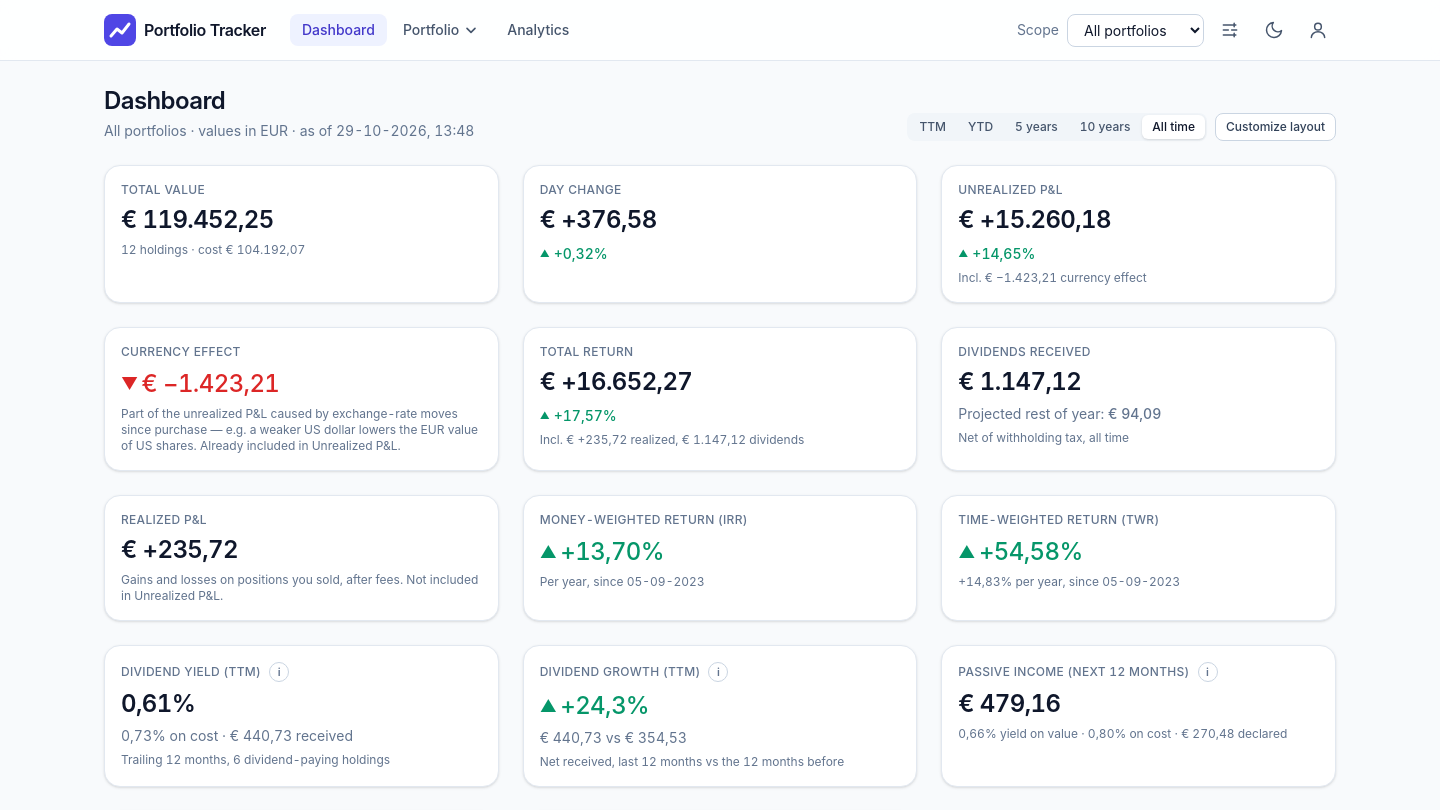
GitHub mode: Notifications entry of the account menu › offers Notifications when the server can send them and opens the page
This screenshot has width=1440, height=810.
Click the button named "Account" at coordinates (1318, 30), box left=1300, top=12, right=1336, bottom=48
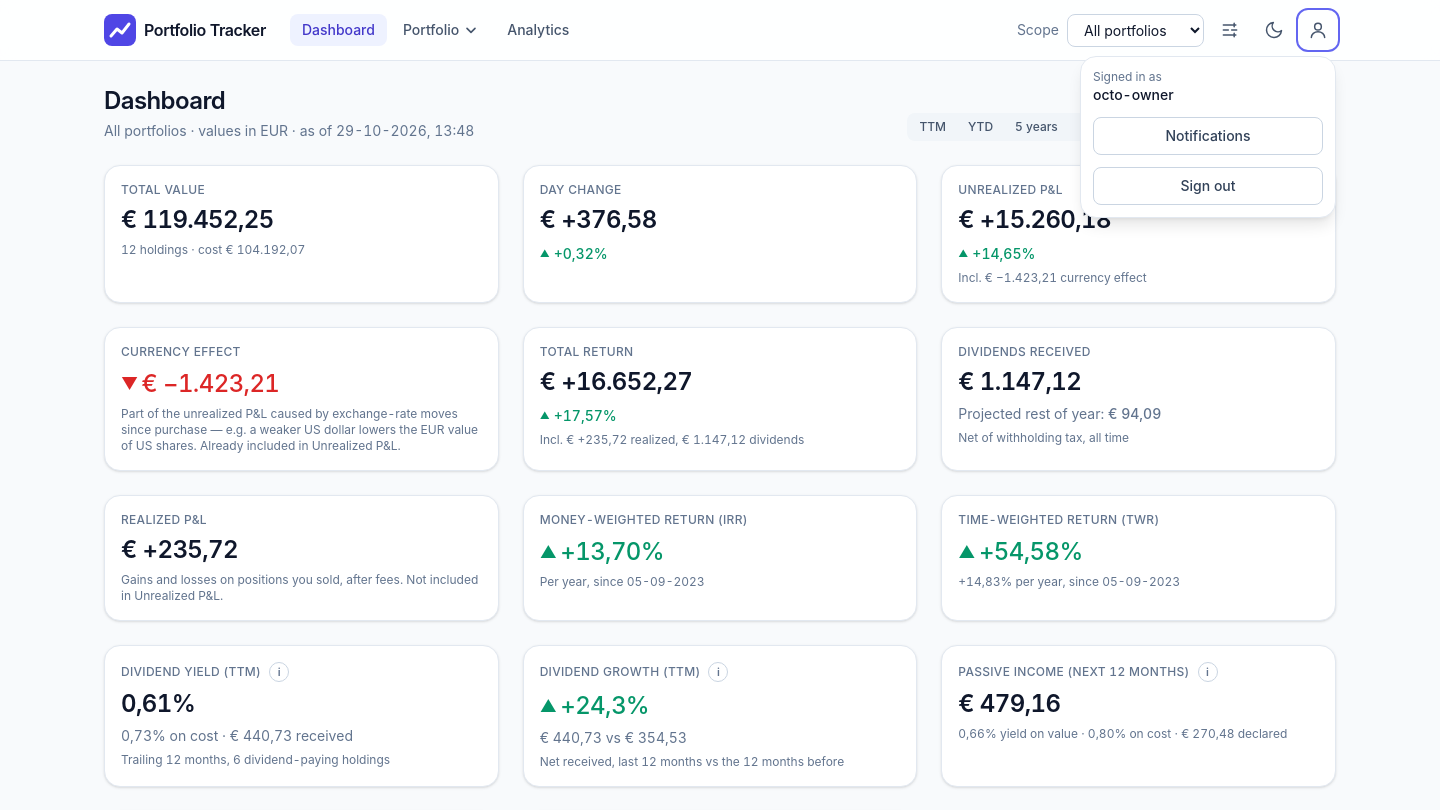
Click the link "Notifications" at coordinates (1208, 136), box left=1093, top=117, right=1323, bottom=155
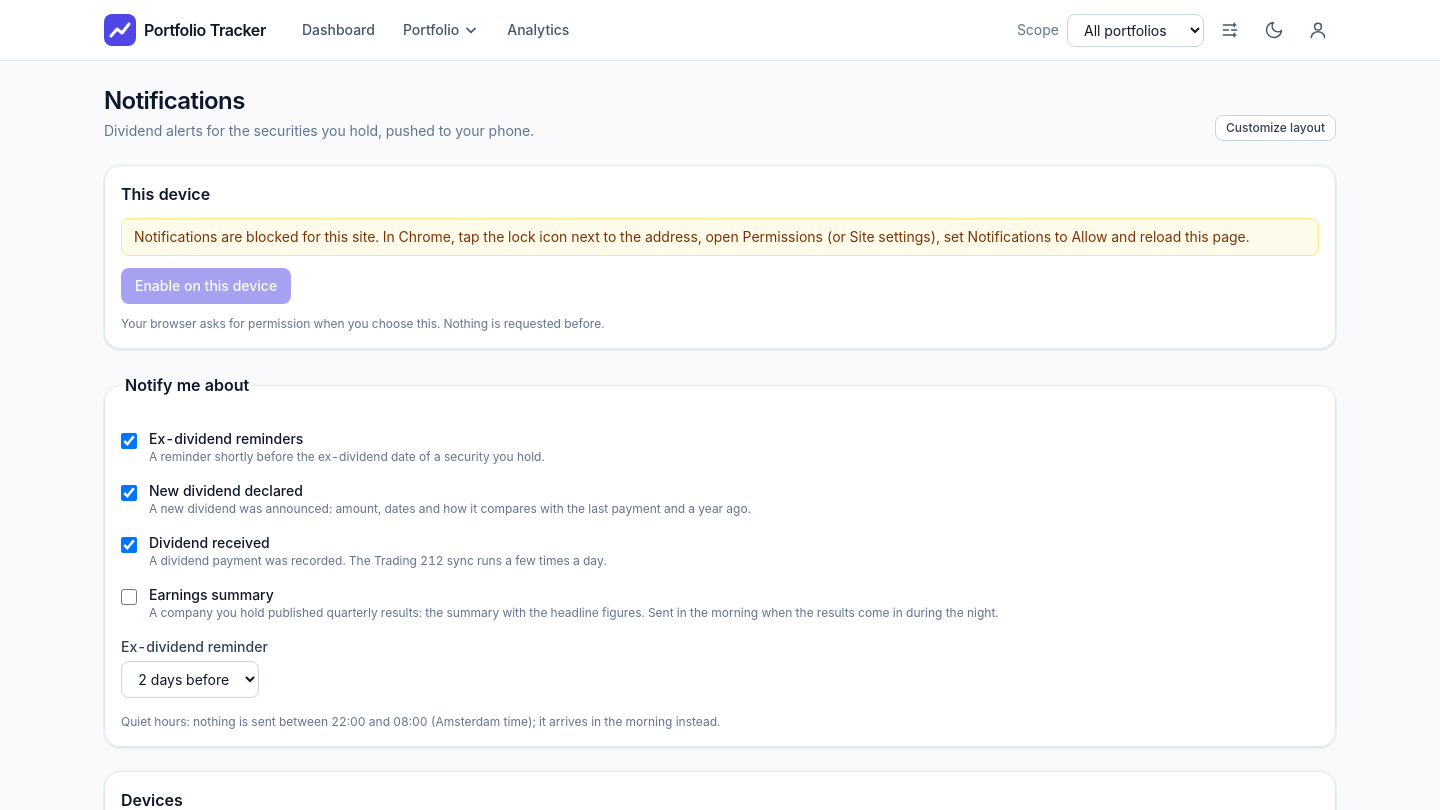
Expected: the heading "Notifications" is shown, left=104, top=86, right=245, bottom=115
